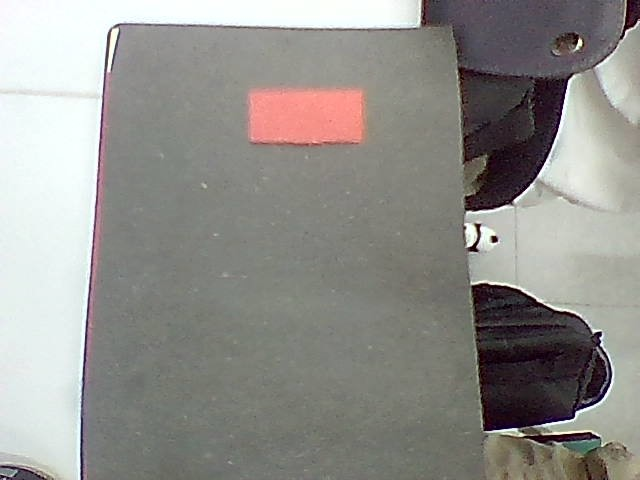card: (249, 89, 365, 145)
